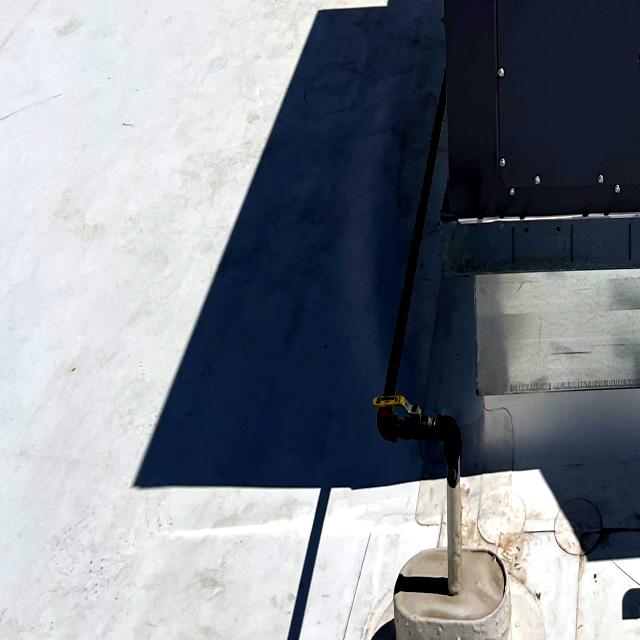RTU: (423, 0, 640, 439)
